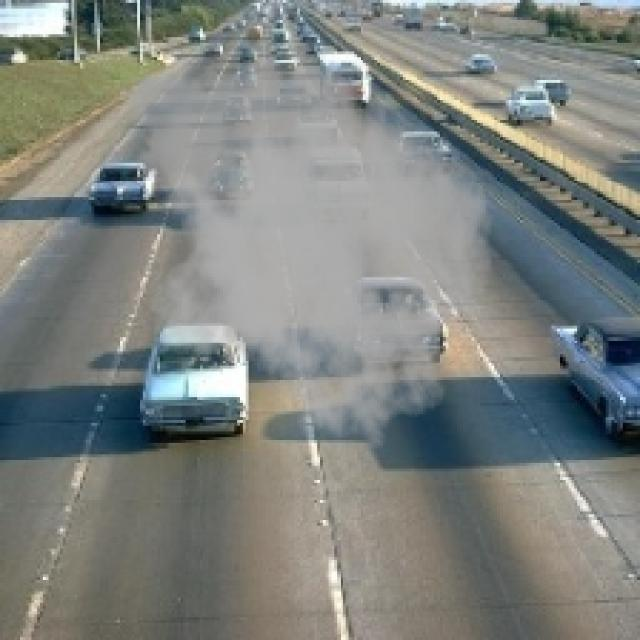smoke: (112, 46, 494, 451)
